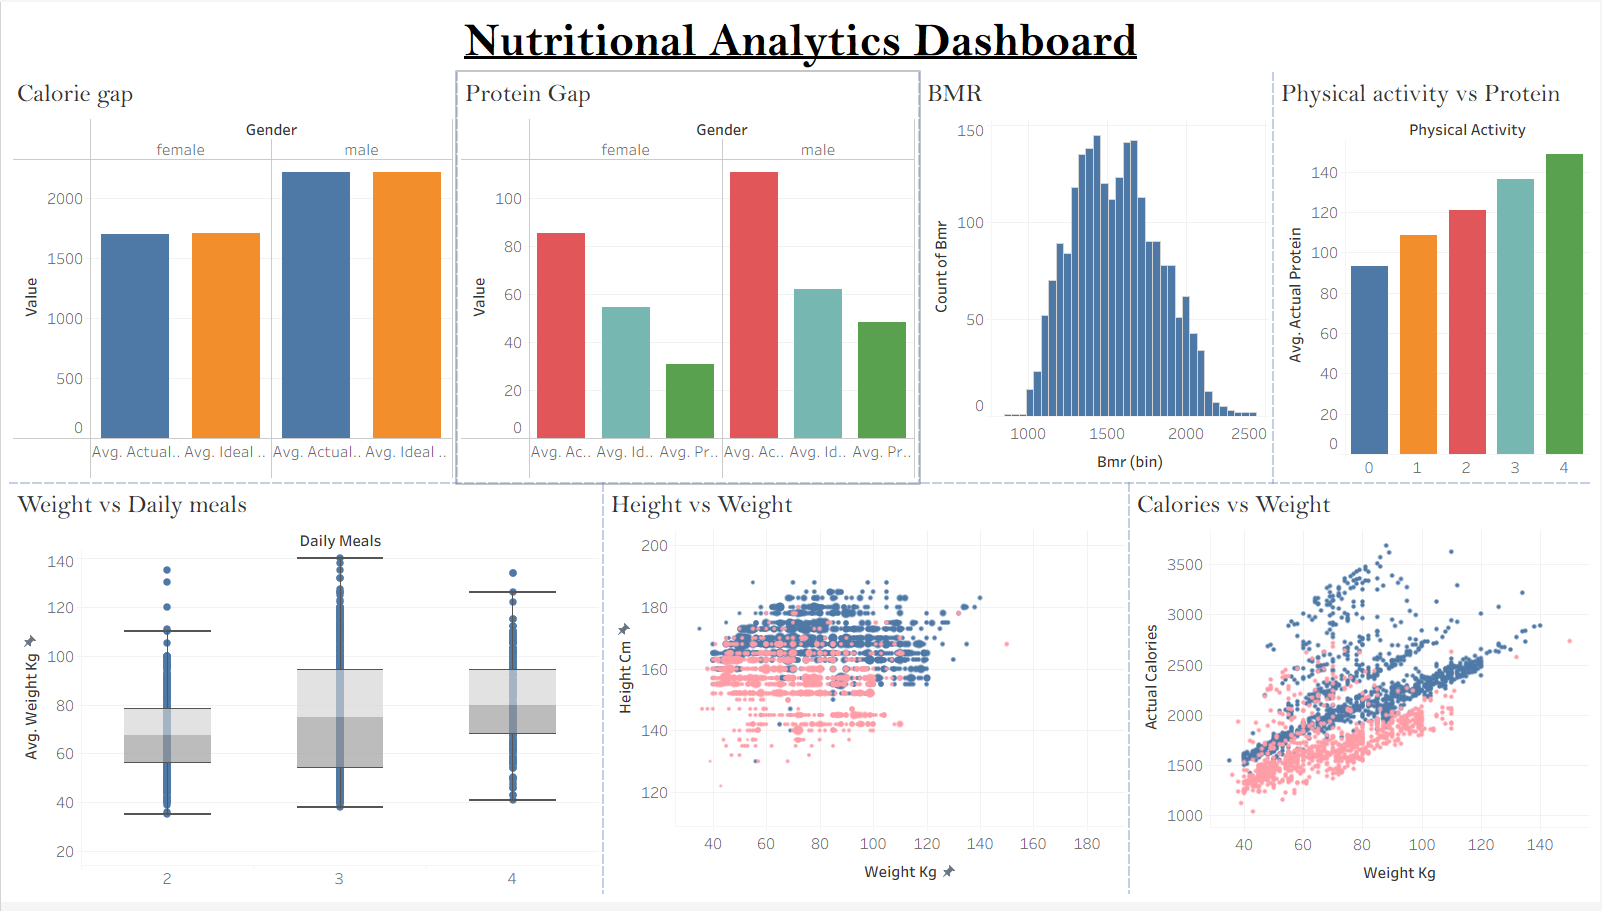

Layout of this report page (visuals, bound fields, positions):
{"tool":"tableau","page":{"name":"Dashboard 1","canvas":[1600,900],"ordinal":0},"visuals":[{"type":"title","box":[8,8,1584,62]},{"type":"worksheet","title":"Calorie gap","mark":"Automatic","cols":["gender"],"box":[8,70,448.3,411]},{"type":"worksheet","title":"Genderwise Protein Gap","mark":"Automatic","cols":["gender"],"box":[456.3,70,461.6,411]},{"type":"worksheet","title":"BMR","mark":"Automatic","rows":["bmr"],"cols":["Bmr (bin)"],"box":[917.9,70,354.1,411]},{"type":"worksheet","title":"Physical Activity vs Protein","mark":"Automatic","rows":["actual_protein"],"cols":["physical_activity"],"box":[1272,70,320,411]},{"type":"worksheet","title":"Weight vs Meals","mark":"Circle","rows":["weight_kg"],"cols":["daily_meals"],"box":[8,481,593.7,411]},{"type":"worksheet","title":"Height vs Weight","mark":"Automatic","rows":["height_cm"],"cols":["weight_kg"],"box":[601.7,481,526.8,411]},{"type":"worksheet","title":"Calories vs Weight","mark":"Automatic","rows":["actual_calories"],"cols":["weight_kg"],"box":[1128.5,481,463.5,411]}]}

Visuals, with their boxes in screenshot pixels (x1, y1, x2, y2), scaled from the page's 1600x900 canvas onto the 1602x911 screenshot:
title: detection(8, 8, 1594, 71)
"Calorie gap" worksheet: detection(8, 71, 457, 487)
"Genderwise Protein Gap" worksheet: detection(457, 71, 919, 487)
"BMR" worksheet: detection(919, 71, 1274, 487)
"Physical Activity vs Protein" worksheet: detection(1274, 71, 1594, 487)
"Weight vs Meals" worksheet (Circle marks): detection(8, 487, 602, 903)
"Height vs Weight" worksheet: detection(602, 487, 1130, 903)
"Calories vs Weight" worksheet: detection(1130, 487, 1594, 903)
